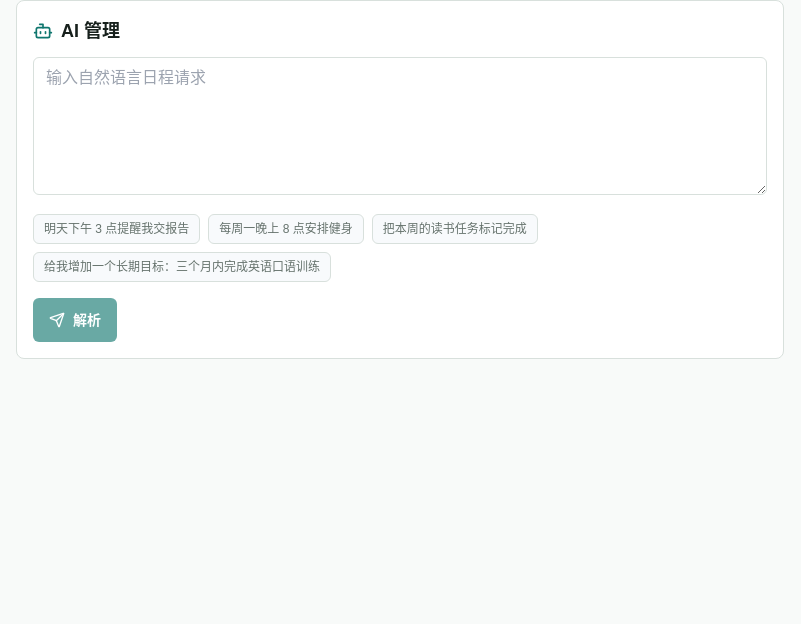
Test: AiWorkbench › clears stale parsed actions when the input changes
Type "明天提醒我交报告" into the text box with placeholder "输入自然语言日程请求".
click(400, 126); type("明天提醒我交报告")  # box [33,57,767,195]
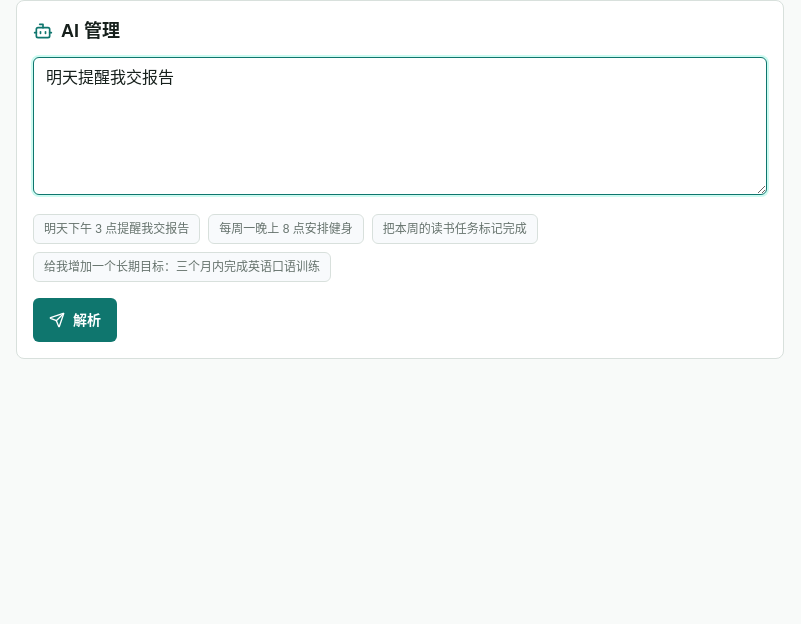
Click the button "解析".
click(75, 320)  # box [33,298,117,342]
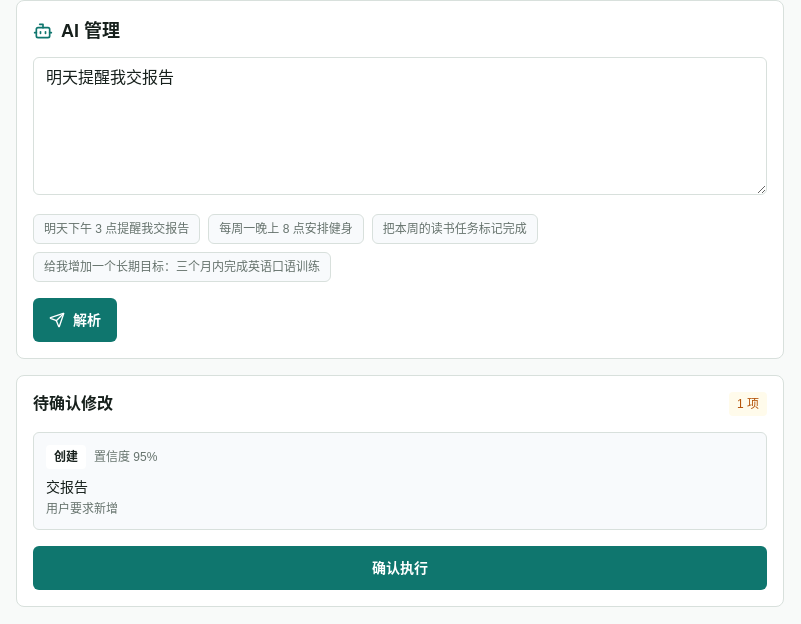
Now the heading "待确认修改" is shown, box [33,392,113,416]
Now the text "交报告" is shown, box [46,479,88,495]
Type "，改成买菜" into the text box with placeholder "输入自然语言日程请求".
click(400, 126); type("，改成买菜")  # box [33,57,767,195]
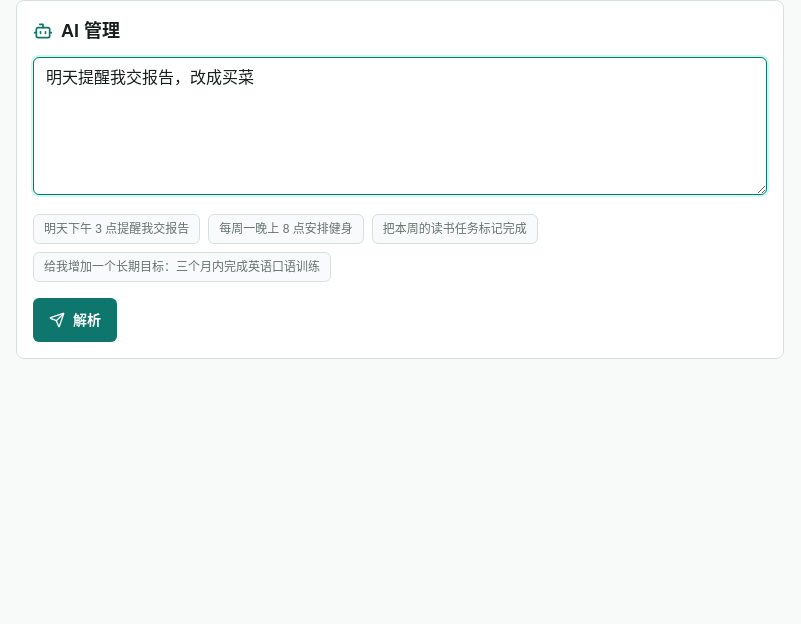
Now the heading "待确认修改" is gone
